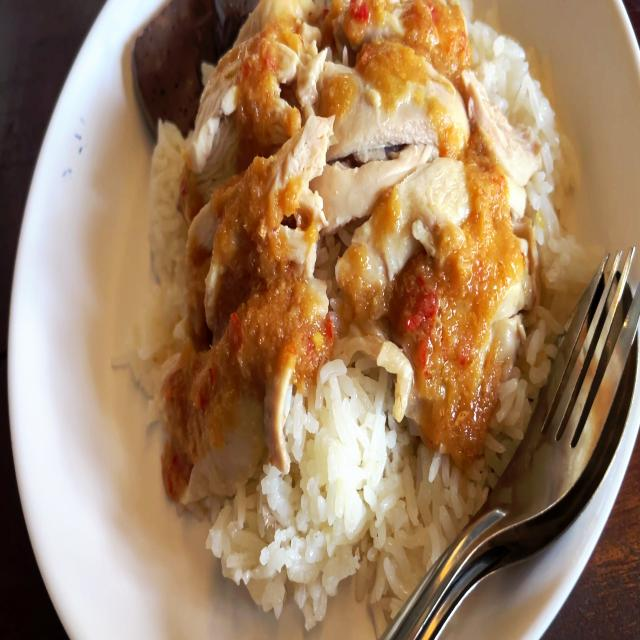boiled_chicken: (183, 0, 507, 466)
boiled_chicken_blood_jelly: (124, 0, 230, 118)
chicken_rice: (121, 0, 591, 623)
